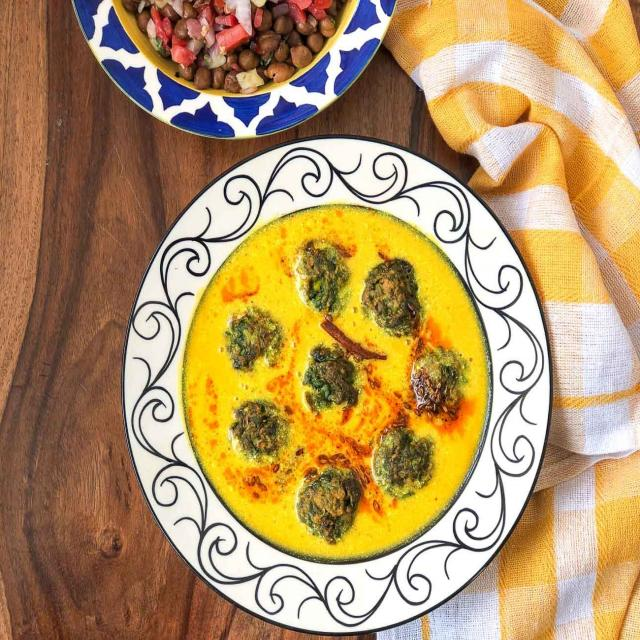Kadhi Pakora: (178, 205, 486, 559)
